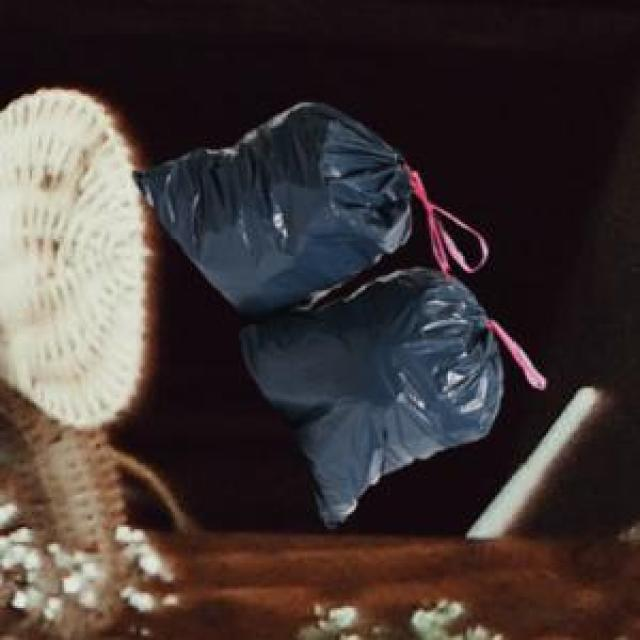miscellaneous trash: (128, 98, 542, 523)
